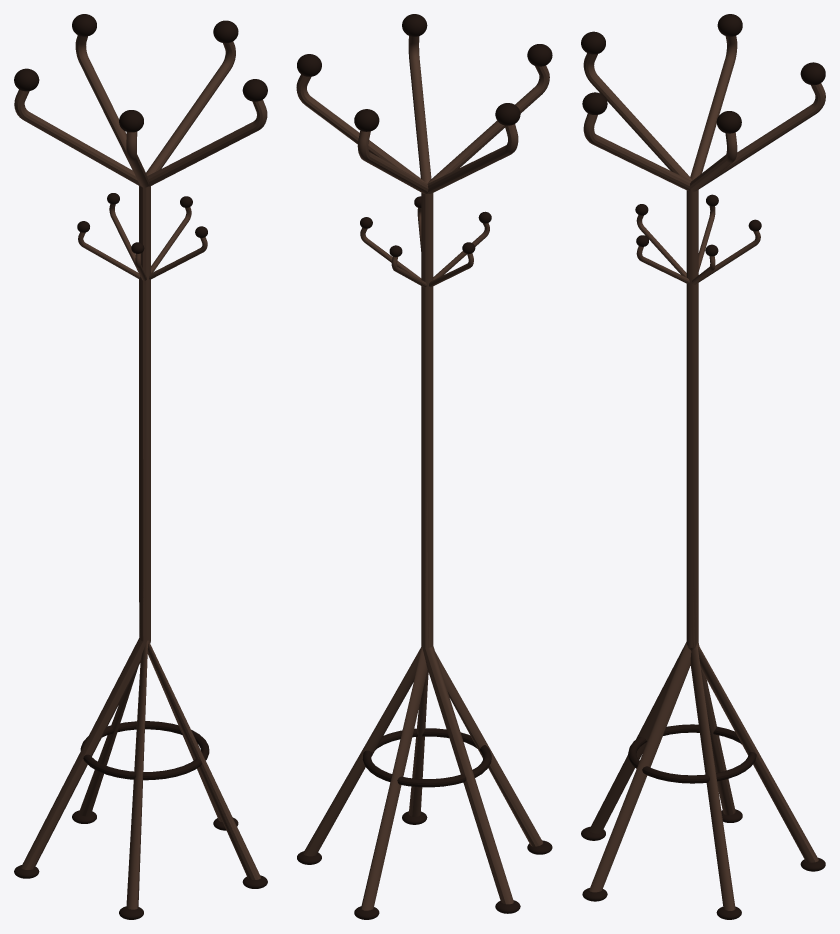
File: coathanger.fbx
3 renders of one model, left to right at view 1: azimuth 30°, elevation 25°; view 2: azimuth 150°, elevation 25°; view 3: azimuth 270°, elevation 25°, orthographic.
Visible parts, largest first — view 1: Sphere.008; view 2: Sphere.008; view 3: Sphere.008.
Part boxes in pixels (left/top/right/bottom): Sphere.008: left=14, top=14, right=267, bottom=919; Sphere.008: left=296, top=14, right=552, bottom=919; Sphere.008: left=581, top=14, right=825, bottom=919.
Size of the model in its own units: 208 by 725 by 200.
